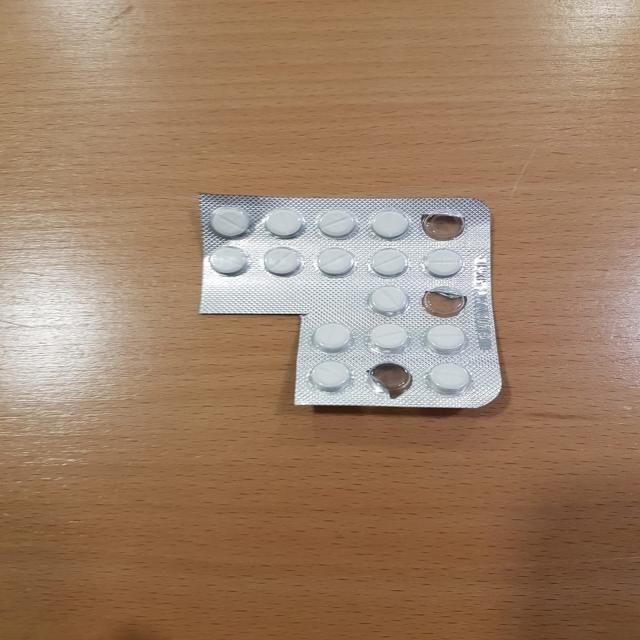Empty: (359, 360, 416, 400), (418, 283, 476, 320), (420, 205, 471, 244)
Pill: (254, 203, 310, 240), (423, 364, 484, 397), (206, 202, 258, 238), (359, 285, 414, 319), (418, 247, 473, 280), (315, 245, 361, 283), (314, 206, 362, 242), (364, 206, 412, 242), (366, 319, 414, 353), (421, 323, 473, 353), (308, 358, 350, 394), (208, 245, 251, 280), (263, 244, 302, 280), (309, 322, 352, 354), (370, 251, 410, 277)
